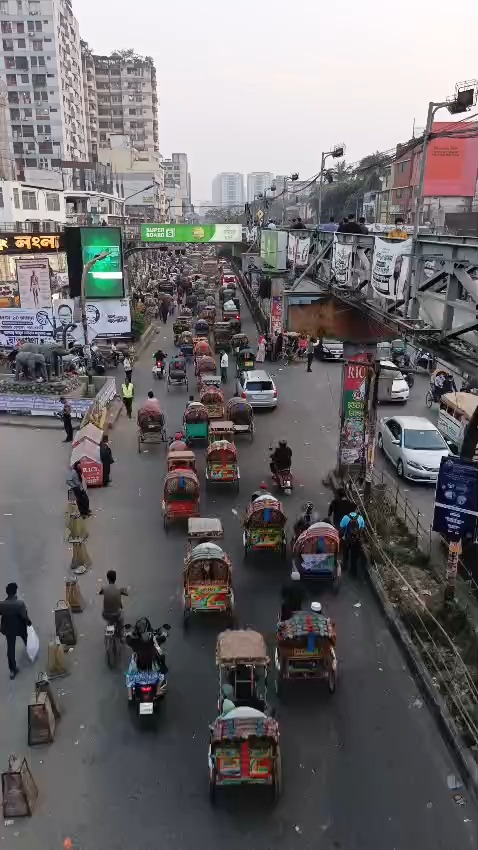Bikes: (82, 559, 200, 755), (267, 429, 306, 507), (154, 347, 167, 381)
Leguna: (443, 382, 478, 480)
Pickup: (223, 294, 241, 319)
auto-ricksaw: (158, 402, 357, 850), (175, 306, 292, 414), (175, 279, 216, 323)
cng: (393, 339, 409, 356)
private car: (377, 402, 445, 498), (242, 367, 301, 435), (370, 359, 413, 408), (220, 261, 240, 282)
